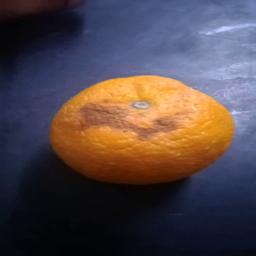Orange Semifresh: (22, 65, 255, 185)
